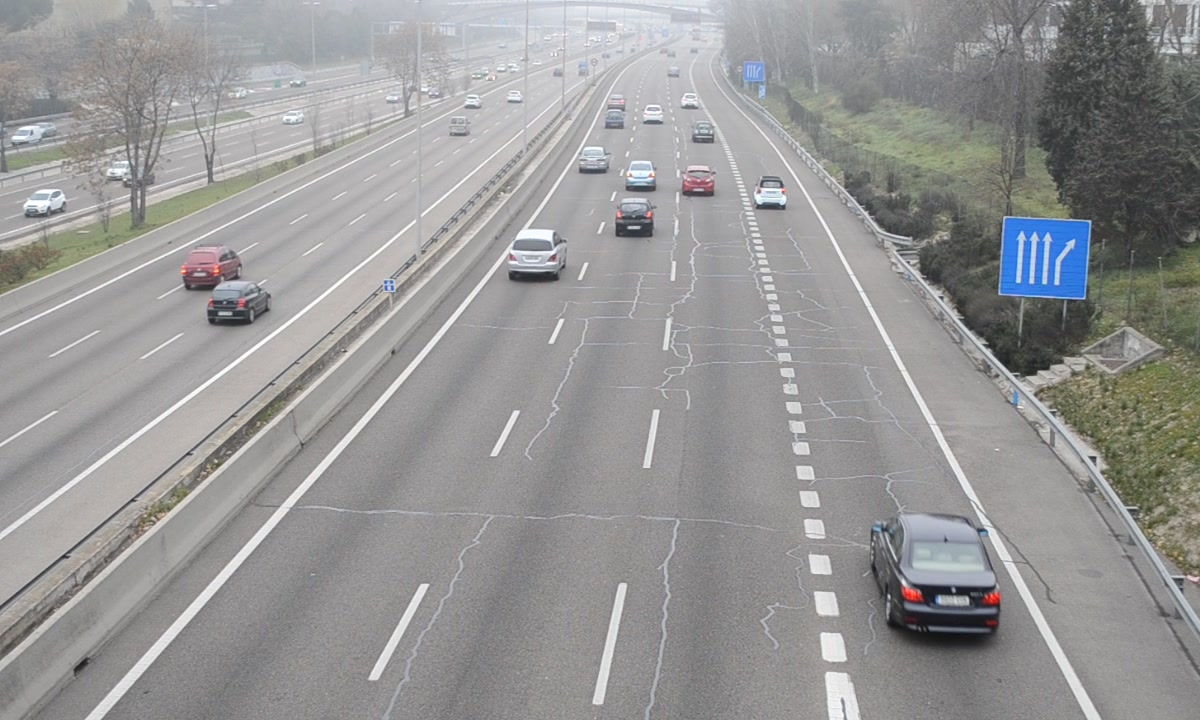car: (874, 514, 1003, 639), (504, 228, 567, 276), (614, 197, 656, 238), (754, 175, 788, 211), (682, 165, 717, 198), (625, 159, 658, 192), (577, 147, 610, 175), (690, 120, 715, 145), (602, 110, 627, 130)
